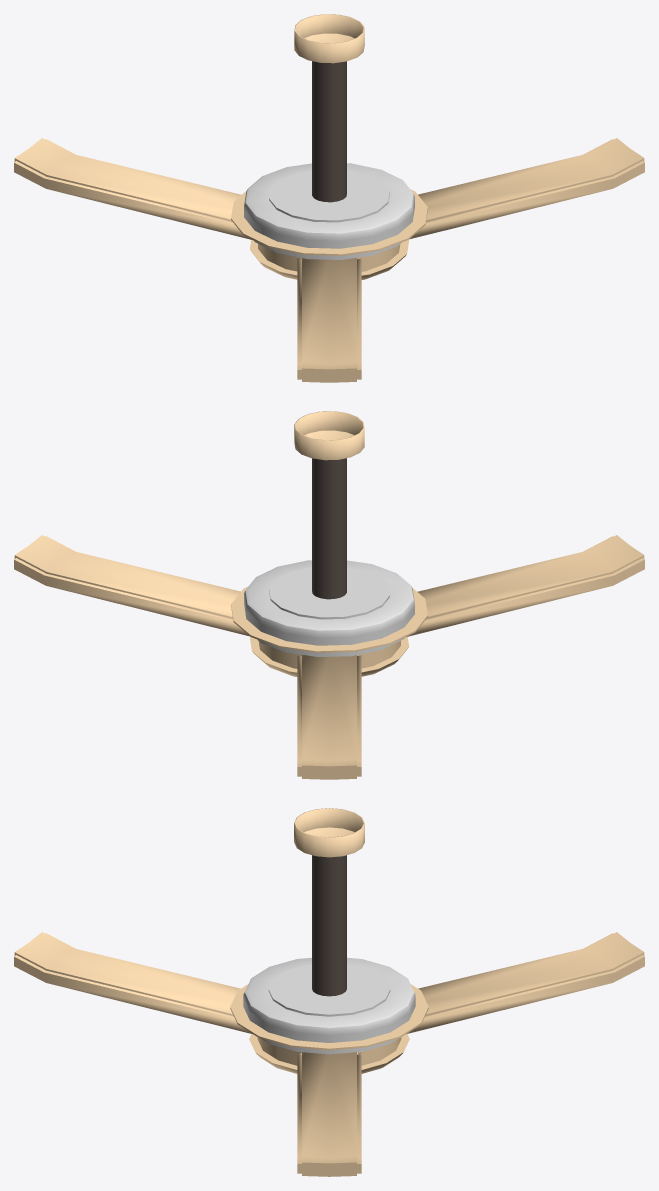
The model's file is fan2.glb.
The picture shows the model from 3 angles, top to bottom: view 1: azimuth 30°, elevation 25°; view 2: azimuth 150°, elevation 25°; view 3: azimuth 270°, elevation 25°; orthographic projection.
Visible parts, largest first — view 1: Fan2_Tris; view 2: Fan2_Tris; view 3: Fan2_Tris.
Part boxes in pixels (bbox=[...]): Fan2_Tris: bbox=[14, 14, 644, 382]; Fan2_Tris: bbox=[14, 411, 644, 779]; Fan2_Tris: bbox=[14, 808, 644, 1176].
Bounding box in the file's own units: 2.18 × 1 × 2.51.
